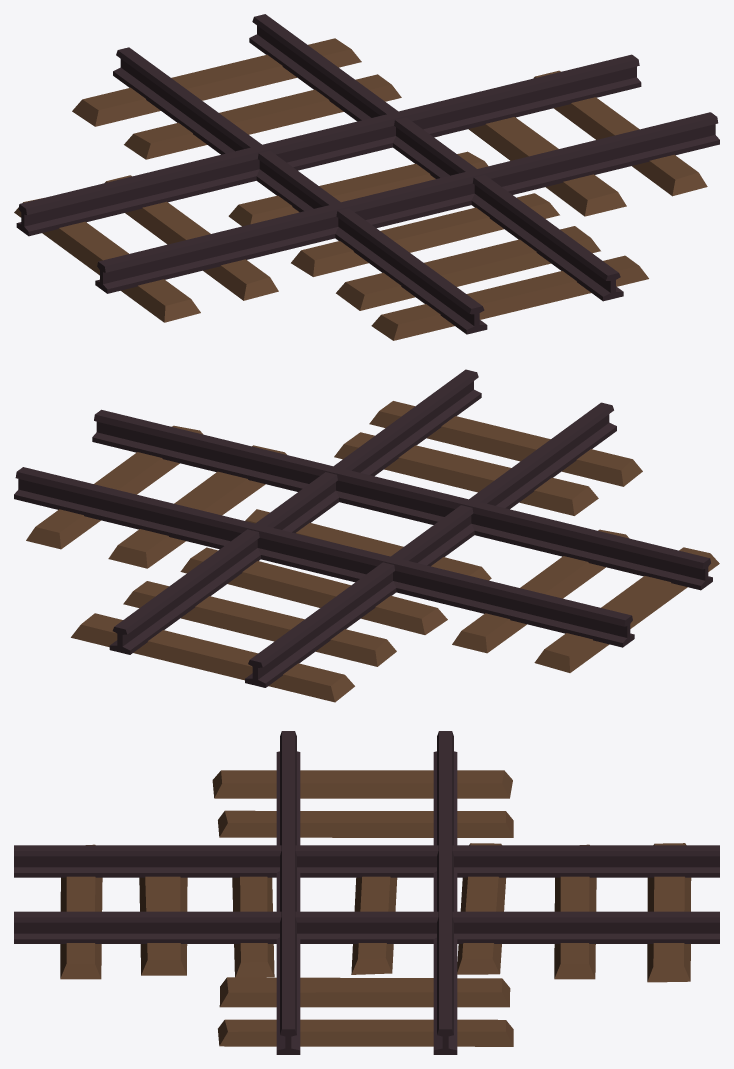
The model's file is railway_cross_style_01.fbx.
3 views of the same model, one above another, from view 1: azimuth 30°, elevation 25°; view 2: azimuth 150°, elevation 25°; view 3: azimuth 270°, elevation 25° (orthographic).
Visible parts, largest first — view 1: cross; view 2: cross; view 3: cross.
Part boxes in pixels (<box>): cross: <box>14,14,719,340</box>; cross: <box>14,369,719,702</box>; cross: <box>14,731,719,1054</box>.
Size of the model in its own units: 363 by 21 by 363.
